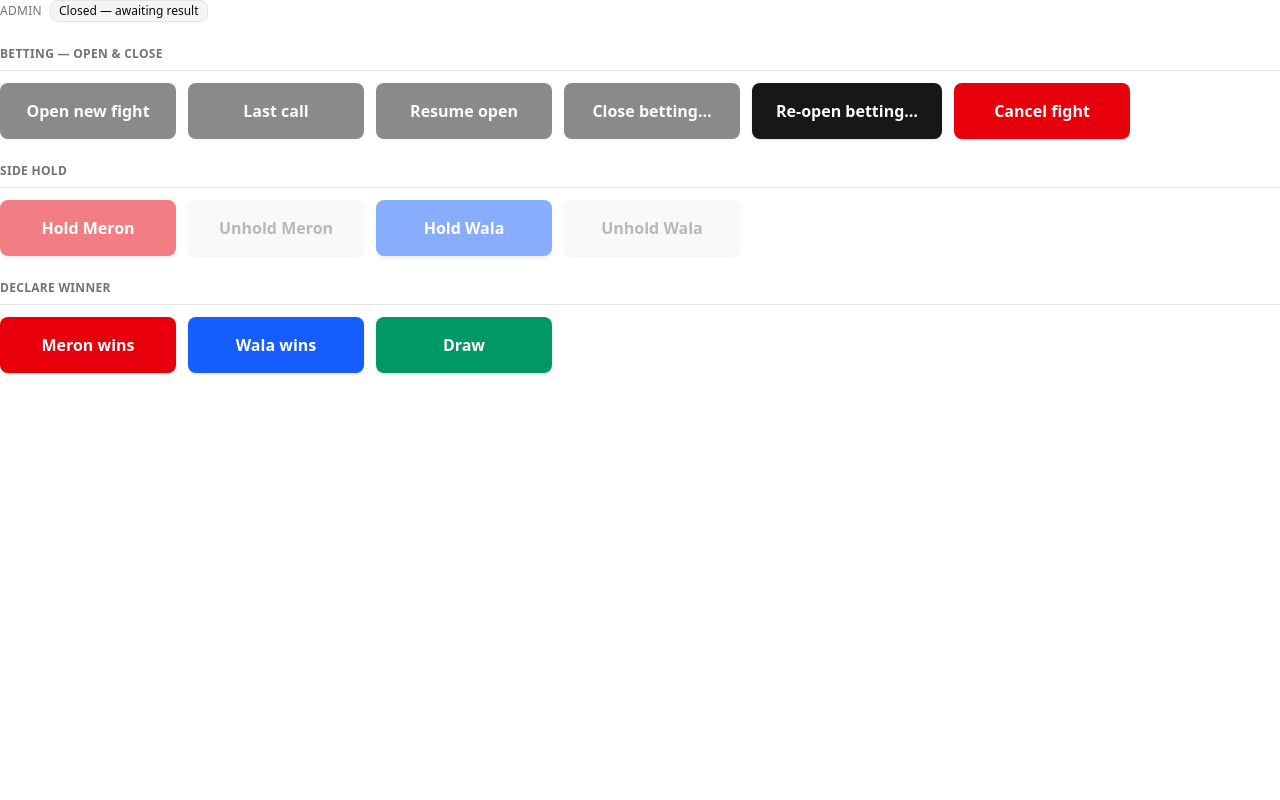
it: FightAdminToolbar › opens settle dialog when meron wins is clicked on closed fight
This screenshot has width=1280, height=800.
What coordinates should you click on to do the following:
click the button "Meron wins"
I would click on:
 (88, 345)
Its box is [0,317,176,373].
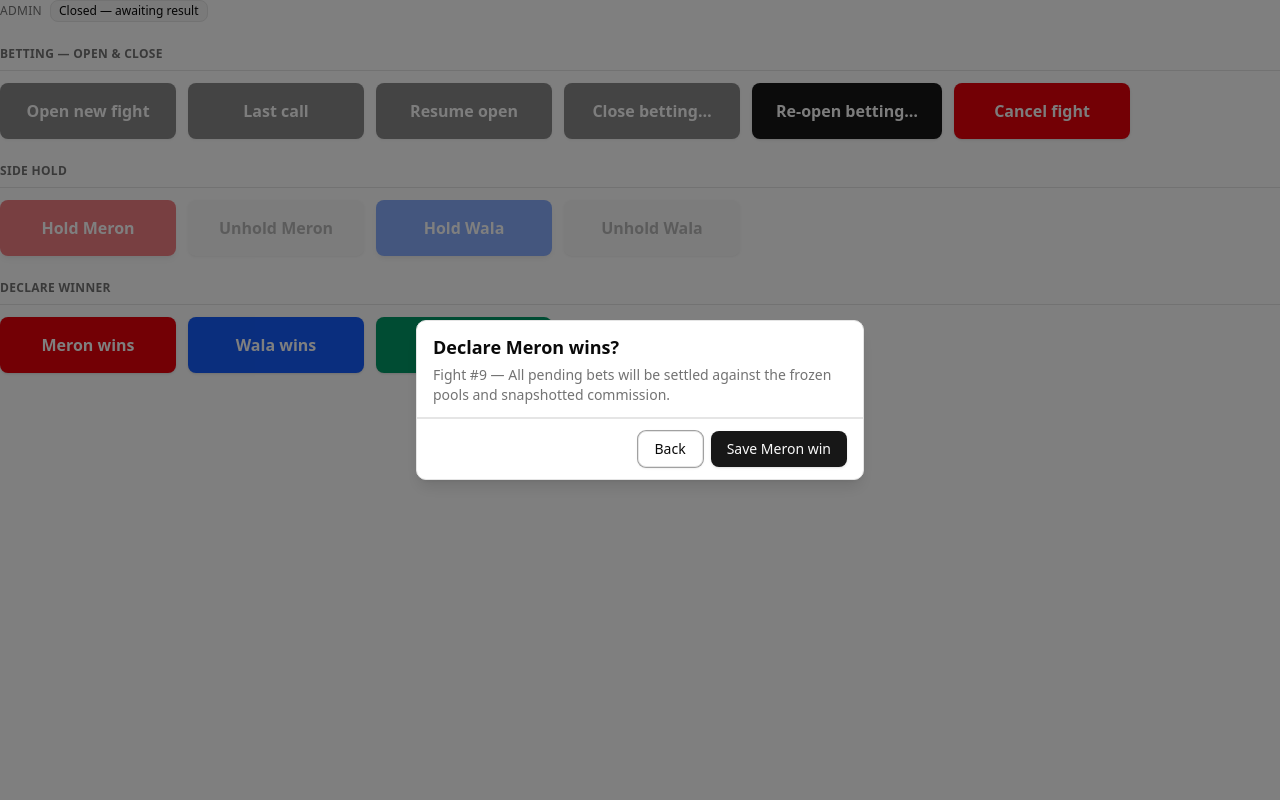
Expected: the heading "Declare Meron wins?" is shown, [433,335,619,359]
